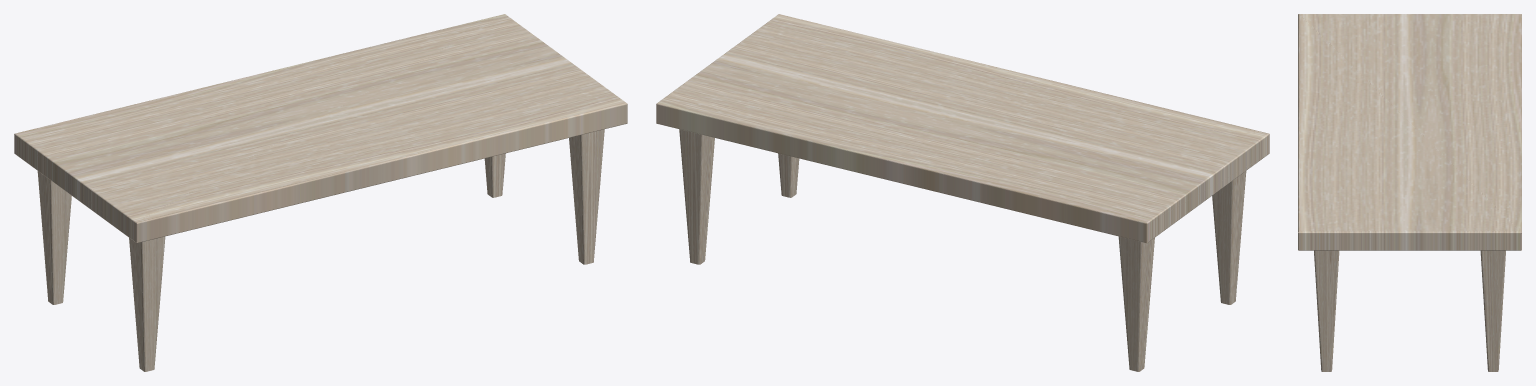
The model's file is table1.fbx.
The picture shows the model from 3 angles, left to right: view 1: azimuth 30°, elevation 25°; view 2: azimuth 150°, elevation 25°; view 3: azimuth 270°, elevation 25°; orthographic projection. The views are drawn at different scales.
Parts seen in each view (by area): view 1: Cube, Cube.001; view 2: Cube, Cube.001; view 3: Cube, Cube.001.
Part boxes in pixels (bbox=[...]): Cube: bbox=[14, 14, 627, 243]; Cube.001: bbox=[37, 129, 604, 371]; Cube: bbox=[656, 14, 1269, 243]; Cube.001: bbox=[679, 129, 1246, 371]; Cube: bbox=[1298, 14, 1521, 250]; Cube.001: bbox=[1314, 250, 1505, 371].
Size of the model in its own units: 462 by 147 by 200.
2 materials, 2 textured.
